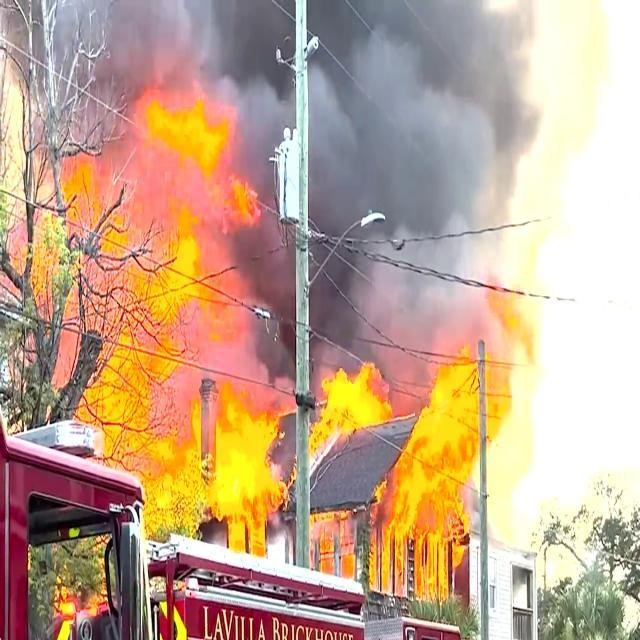Fire: (27, 150, 164, 413), (406, 364, 490, 596), (150, 426, 267, 522), (313, 364, 384, 416)
Smoke: (124, 0, 500, 310)
